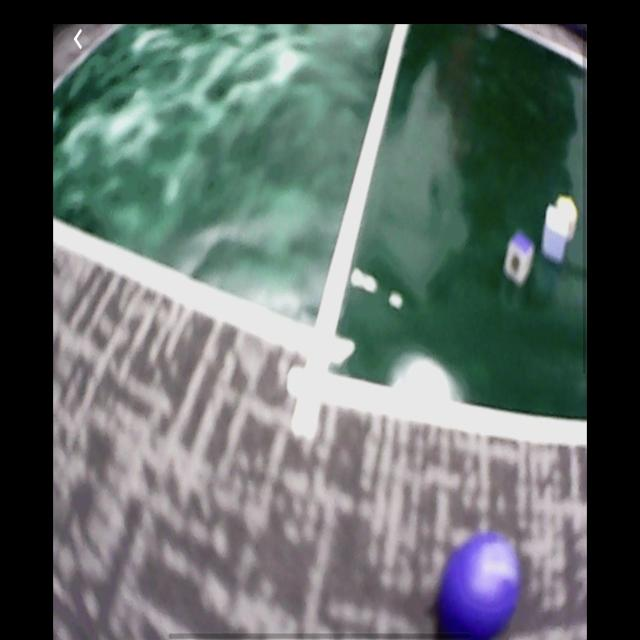ball: (442, 533, 521, 638)
